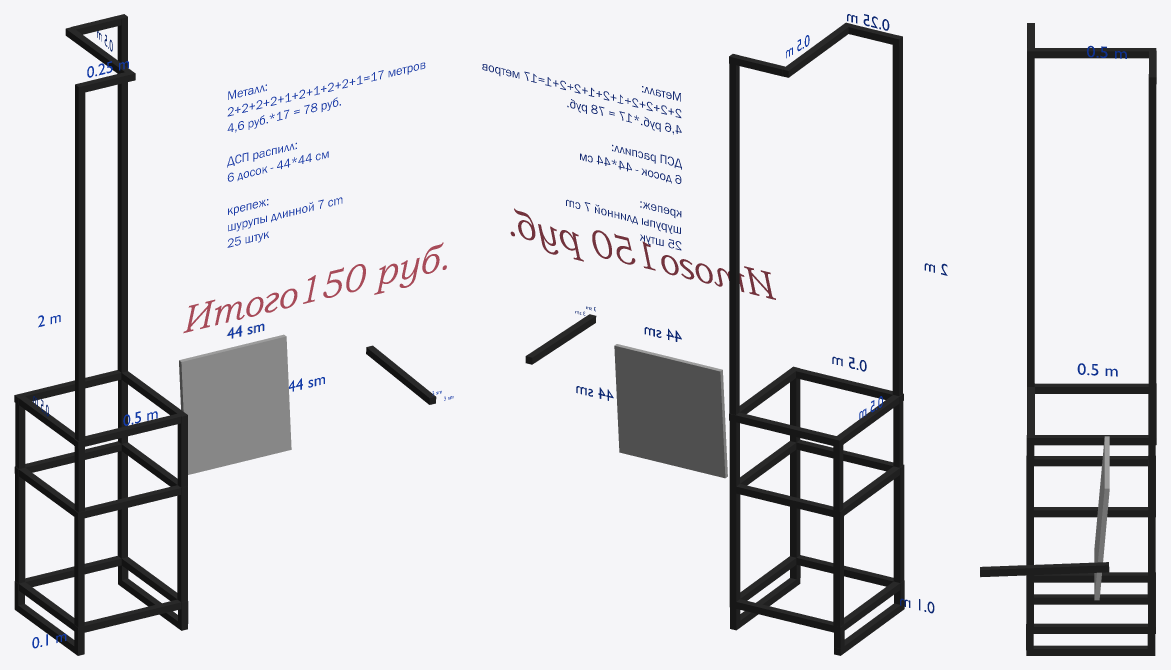
The model's file is hanger01.glb.
3 renders of one model, left to right at view 1: azimuth 30°, elevation 25°; view 2: azimuth 150°, elevation 25°; view 3: azimuth 270°, elevation 25°, orthographic.
Parts seen in each view (by area): view 1: Plane, Cube.026, Cube.027, Text.004, Text.013, Cube.013, Cube.012, Cube.010, Cube.014, Cube.022, Cube, Cube.011 (+16 smaller); view 2: Plane, Cube.026, Cube.027, Text.004, Text.013, Cube.011, Cube.013, Cube.025, Cube.017, Cube.003, Cube.010, Cube.022 (+16 smaller); view 3: Cube.027, Cube.026, Cube.031, Plane, Cube.004, Cube.002, Cube.024, Cube.030, Cube.016, Cube.023, Cube.005, Cube.015 (+6 smaller).
Boxes of the visible parts, x1,y1,x2,y2 form: Plane: (179, 334, 291, 474); Cube.026: (75, 83, 85, 441); Cube.027: (117, 17, 127, 372); Text.004: (227, 62, 425, 247); Text.013: (183, 242, 446, 333); Cube.013: (74, 510, 84, 627); Cube.012: (177, 485, 187, 602); Cube.010: (15, 466, 25, 583); Cube.014: (74, 485, 181, 519); Cube.022: (74, 413, 184, 448); Cube: (75, 599, 181, 632); Cube.011: (117, 441, 127, 558); Plane: (614, 344, 727, 478); Cube.026: (892, 35, 902, 395); Cube.027: (729, 63, 739, 414); Text.004: (482, 64, 681, 250); Text.013: (510, 208, 775, 299); Cube.011: (729, 484, 740, 601); Cube.013: (893, 464, 904, 582); Cube.025: (729, 412, 843, 447); Cube.017: (729, 484, 844, 518); Cube.003: (729, 599, 844, 634); Cube.010: (833, 509, 843, 626); Cube.022: (789, 367, 903, 403); Cube.027: (1148, 74, 1156, 437); Cube.026: (1027, 23, 1034, 387); Cube.031: (980, 562, 1109, 577); Plane: (1094, 436, 1109, 600); Cube.004: (1026, 645, 1155, 655); Cube.002: (1026, 623, 1155, 633); Cube.024: (1027, 435, 1156, 445); Cube.030: (1027, 48, 1156, 58); Cube.016: (1026, 507, 1155, 517); Cube.023: (1034, 383, 1156, 393); Cube.005: (1034, 594, 1147, 604); Cube.015: (1034, 456, 1147, 466).
Size of the model in its own units: 1.93 by 2.54 by 0.6987.
